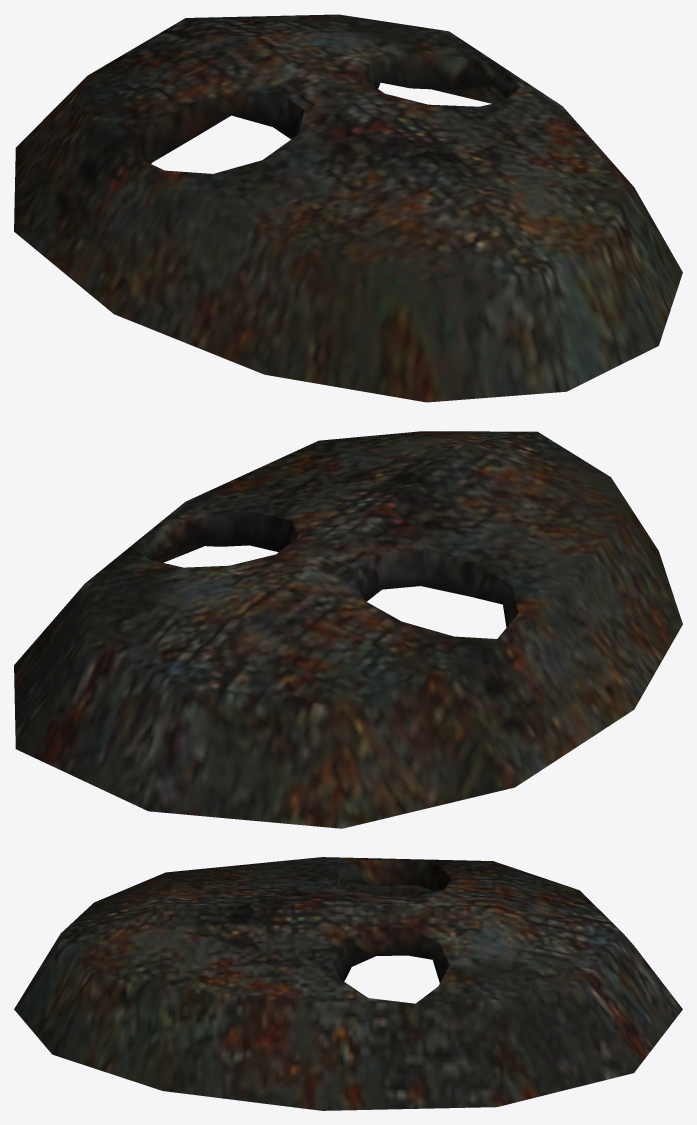
Rendered from mask_mx_4.fbx.
The picture shows the model from 3 angles, top to bottom: view 1: azimuth 30°, elevation 25°; view 2: azimuth 150°, elevation 25°; view 3: azimuth 270°, elevation 25°; orthographic projection. The views are drawn at different scales.
Visible parts, largest first — view 1: mask_mx_4; view 2: mask_mx_4; view 3: mask_mx_4.
Part boxes in pixels (x1=…): mask_mx_4: x1=14, y1=14, x2=682, y2=402; mask_mx_4: x1=14, y1=431, x2=682, y2=828; mask_mx_4: x1=14, y1=857, x2=682, y2=1110.
Bounding box in the file's own units: 0.2297 × 0.3198 × 0.0554.
